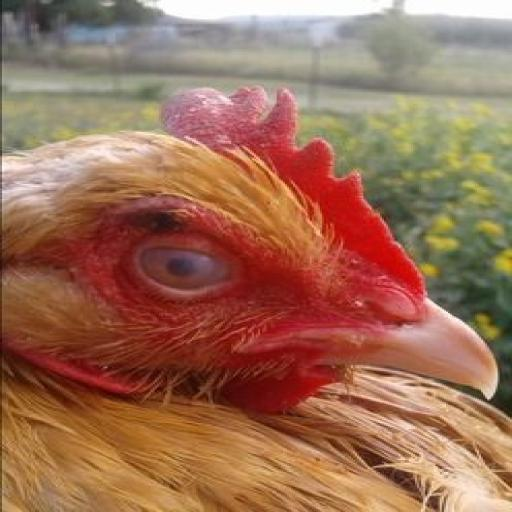disease: (132, 49, 297, 158)
